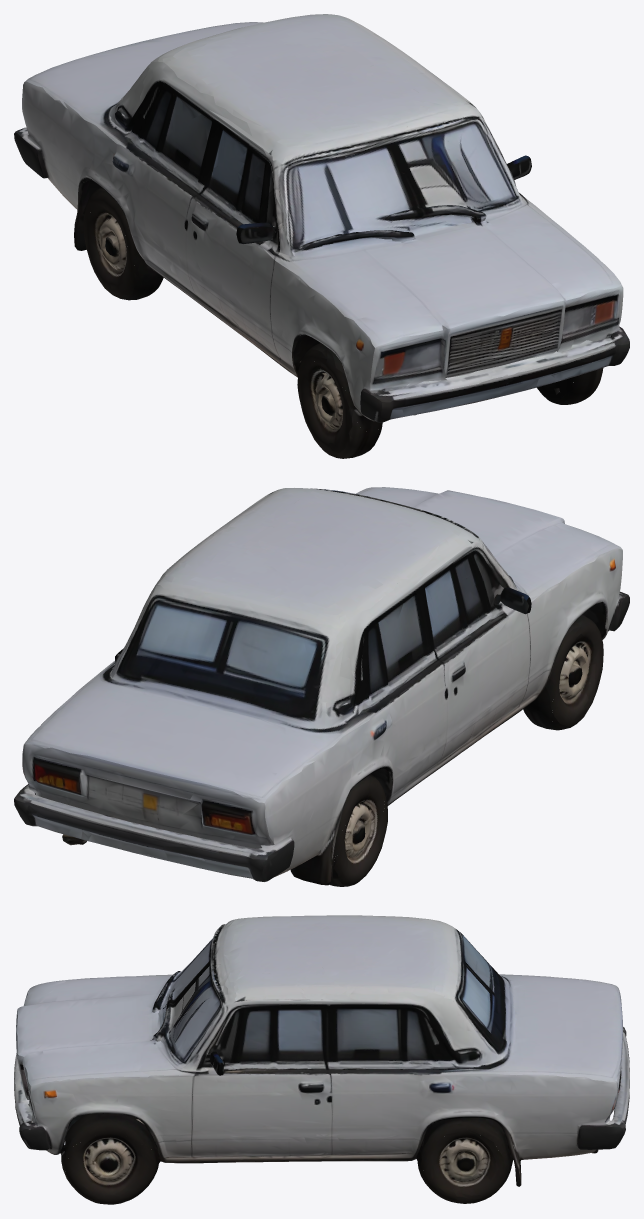
The model's file is lada.glb.
The picture shows the model from 3 angles, top to bottom: view 1: azimuth 30°, elevation 25°; view 2: azimuth 150°, elevation 25°; view 3: azimuth 270°, elevation 25°; orthographic projection. The views are drawn at different scales.
Parts seen in each view (by area): view 1: body, wheel_FR, wheel_RR, wheel_FL; view 2: body, wheel_FR, wheel_RR; view 3: body, wheel_FL, wheel_RL.
Part boxes in pixels (x1=…): body: x1=14, y1=14, x2=629, y2=432; wheel_FR: x1=298, y1=360, x2=382, y2=458; wheel_RR: x1=84, y1=208, x2=160, y2=300; wheel_FL: x1=537, y1=370, x2=602, y2=404; body: x1=14, y1=487, x2=629, y2=885; wheel_FR: x1=526, y1=631, x2=603, y2=730; wheel_RR: x1=329, y1=793, x2=387, y2=886; body: x1=14, y1=915, x2=629, y2=1188; wheel_FL: x1=65, y1=1133, x2=157, y2=1204; wheel_RL: x1=422, y1=1134, x2=510, y2=1203.
Size of what is drawn, in the model's own units: 1.9 by 1.59 by 4.2.
1 material, 1 textured.
